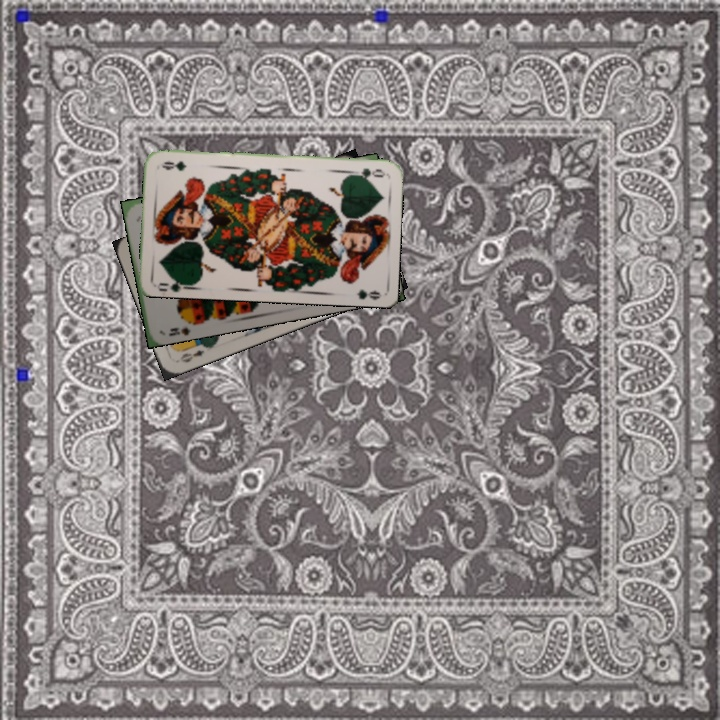EO: (176, 346, 207, 365)
GO: (155, 273, 193, 293), (347, 164, 387, 181)
S9: (164, 314, 201, 338)
